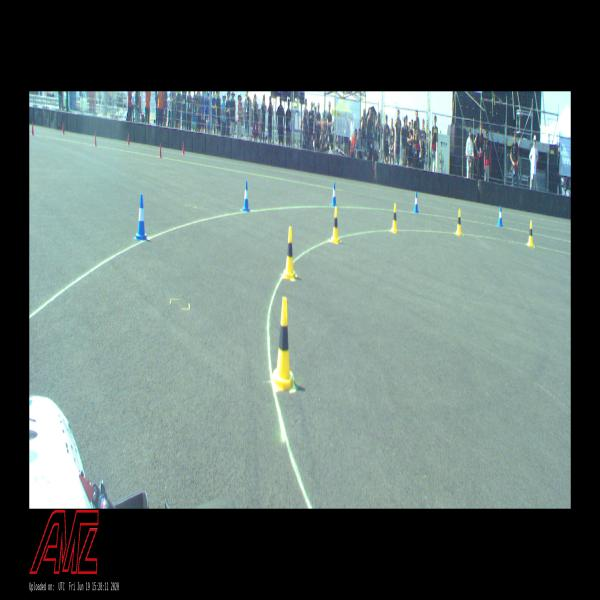blue_cone: (136, 194, 147, 241), (242, 182, 250, 212), (330, 183, 337, 208), (413, 192, 419, 213), (498, 205, 503, 227)
unknown_cone: (158, 143, 162, 158), (31, 120, 34, 136), (94, 132, 97, 146), (182, 141, 185, 154), (61, 122, 64, 134), (127, 133, 130, 145)
yellow_cone: (271, 296, 295, 390), (282, 226, 296, 280), (331, 206, 340, 244), (391, 203, 398, 233), (527, 221, 534, 247), (456, 209, 462, 235)
